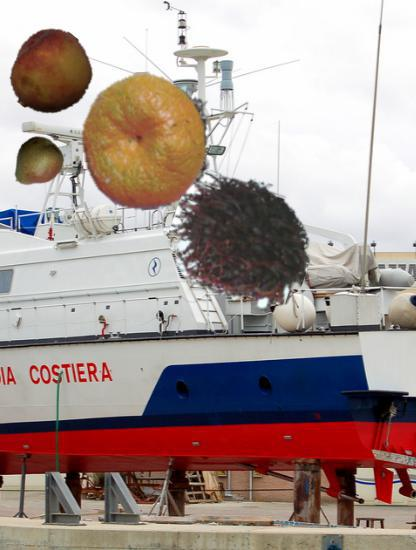Mandarine: (74, 72, 213, 211)
Peach: (8, 30, 95, 117)
Pear: (9, 136, 65, 192)
Rambutan: (170, 169, 313, 312), (89, 79, 228, 218)
